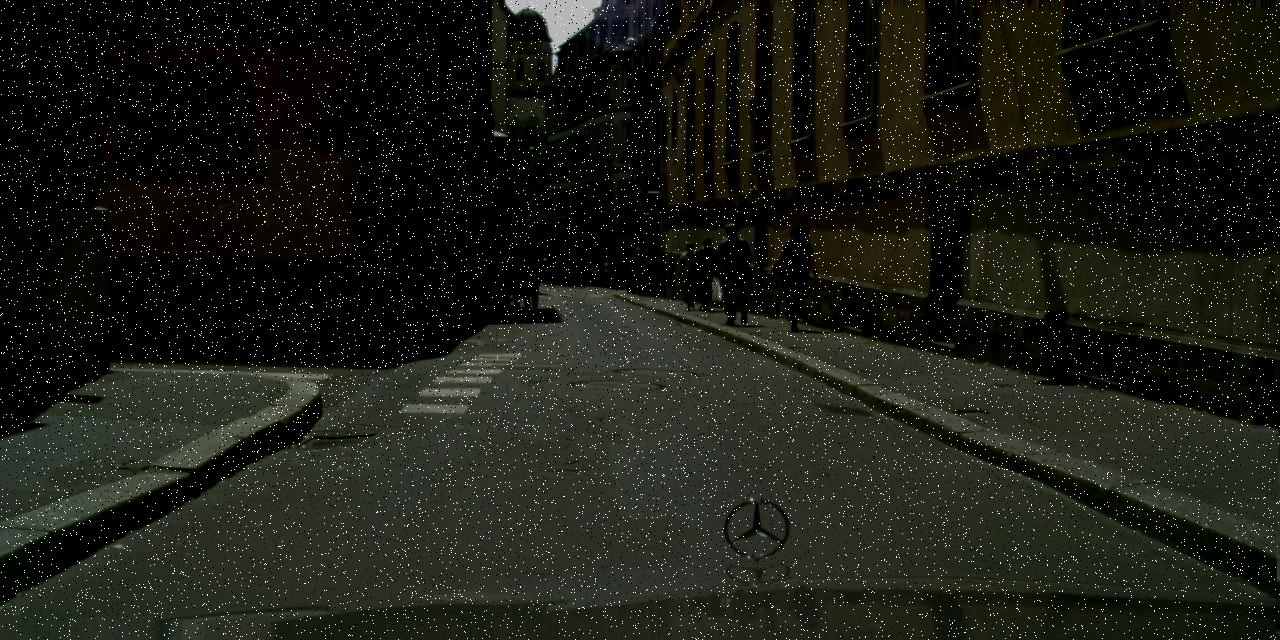ped: (776, 225, 820, 332), (713, 222, 754, 322), (512, 232, 548, 320), (460, 234, 492, 315), (494, 240, 525, 318), (691, 238, 721, 310), (676, 241, 704, 310)
